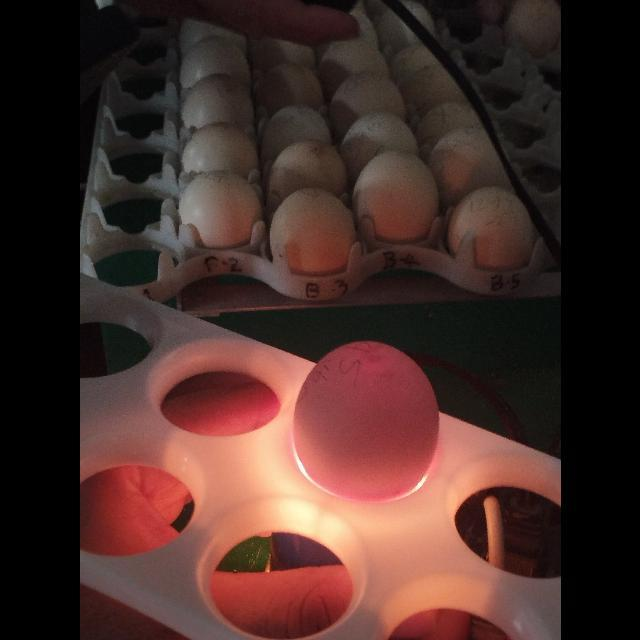Fertile: (296, 336, 440, 499)
